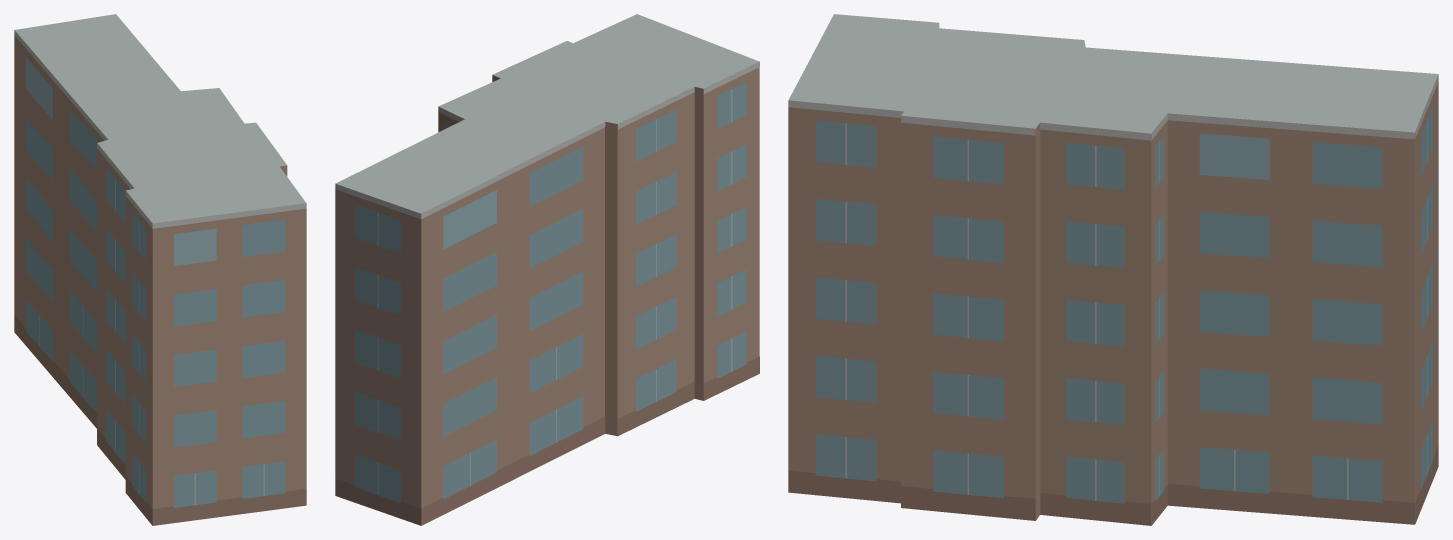
Rendered from survey-upis-32569096.glb.
3 renders of one model, left to right at view 1: azimuth 30°, elevation 25°; view 2: azimuth 150°, elevation 25°; view 3: azimuth 270°, elevation 25°, orthographic. The views are drawn at different scales.
Visible parts, largest first — view 1: survey-upis-32569096.tmp; view 2: survey-upis-32569096.tmp; view 3: survey-upis-32569096.tmp.
Boxes of the visible parts, x1=… form: survey-upis-32569096.tmp: x1=14, y1=14, x2=306, y2=525; survey-upis-32569096.tmp: x1=335, y1=14, x2=759, y2=525; survey-upis-32569096.tmp: x1=788, y1=14, x2=1438, y2=525.
Size of the model in its own units: 9.11 by 13.9 by 20.9.
